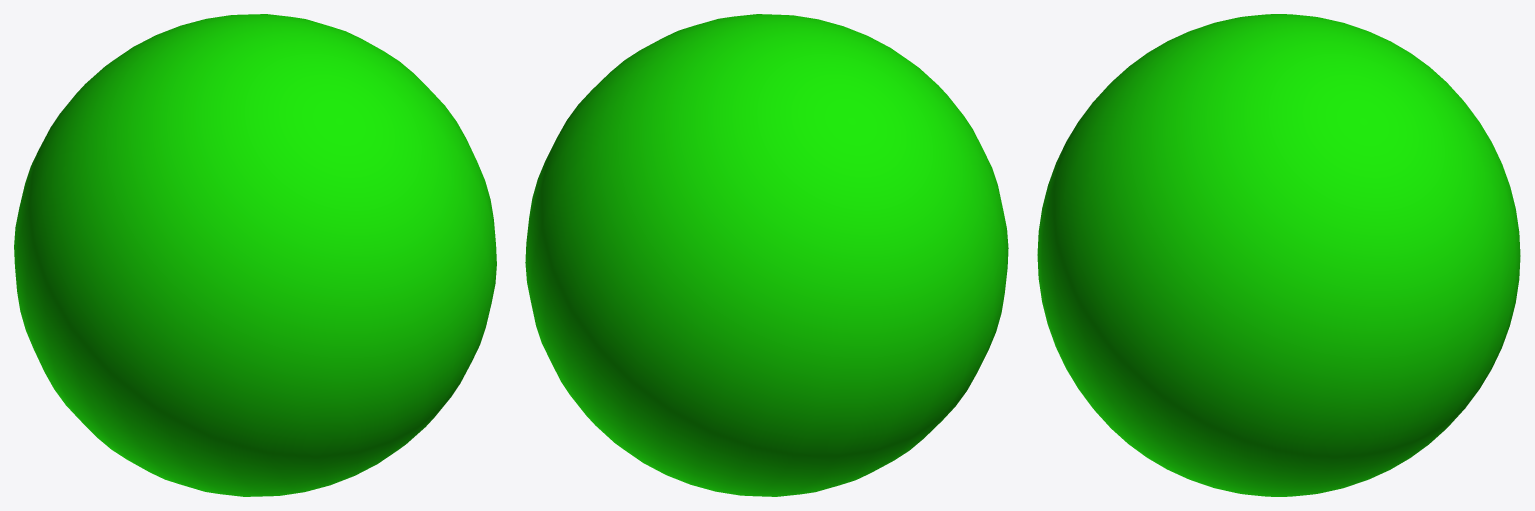
Rendered from partVerde.fbx.
The picture shows the model from 3 angles, left to right: view 1: azimuth 30°, elevation 25°; view 2: azimuth 150°, elevation 25°; view 3: azimuth 270°, elevation 25°; orthographic projection.
Visible parts, largest first — view 1: particulaV; view 2: particulaV; view 3: particulaV.
Boxes of the visible parts, x1,y1,x2,y2 form: particulaV: [14, 14, 496, 496]; particulaV: [525, 14, 1008, 496]; particulaV: [1037, 14, 1520, 496].
Bounding box in the file's own units: 283 × 283 × 283.
